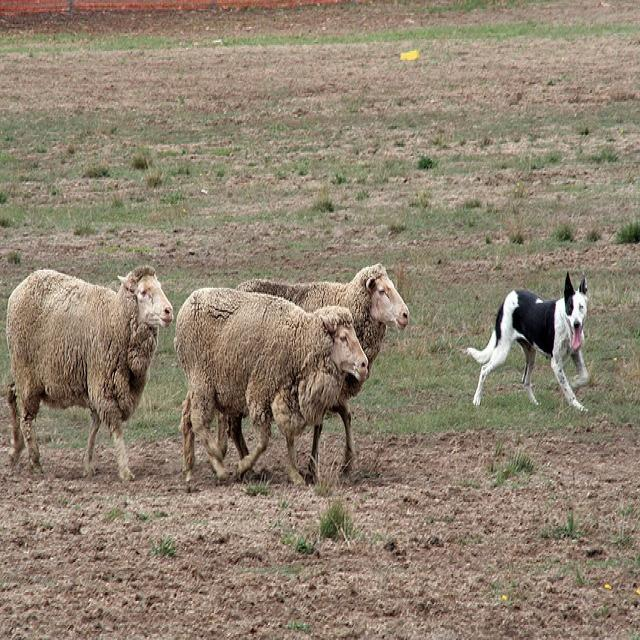dog: (466, 271, 586, 409)
